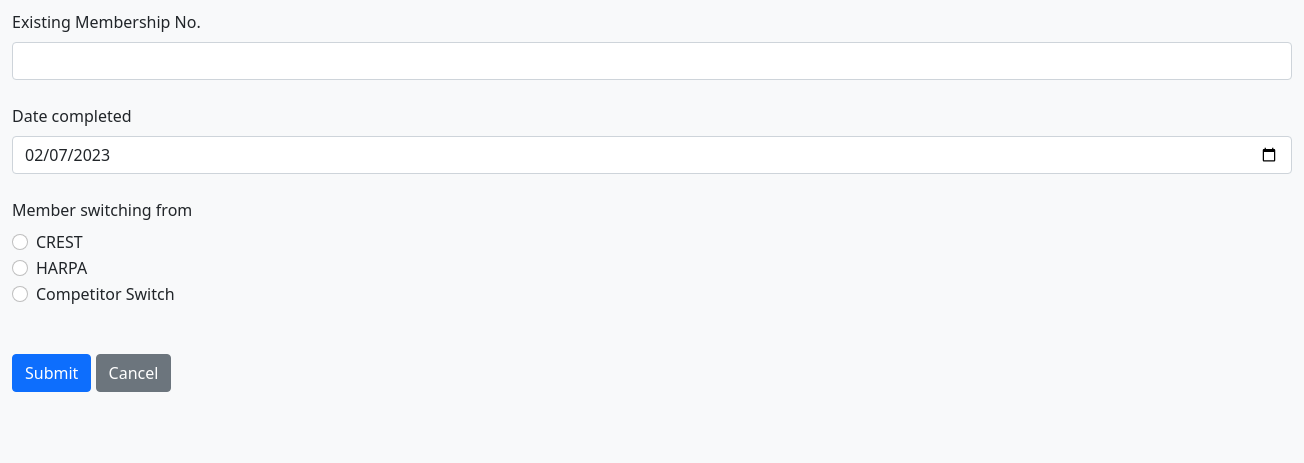
Test: Submit and cancel functions › shows errors if submitting incomplete form
Expected: the text "Membership Number required" is not shown
Expected: the text "Switch from required" is not shown
Click the button "Submit": [52, 373] box left=12, top=354, right=91, bottom=392
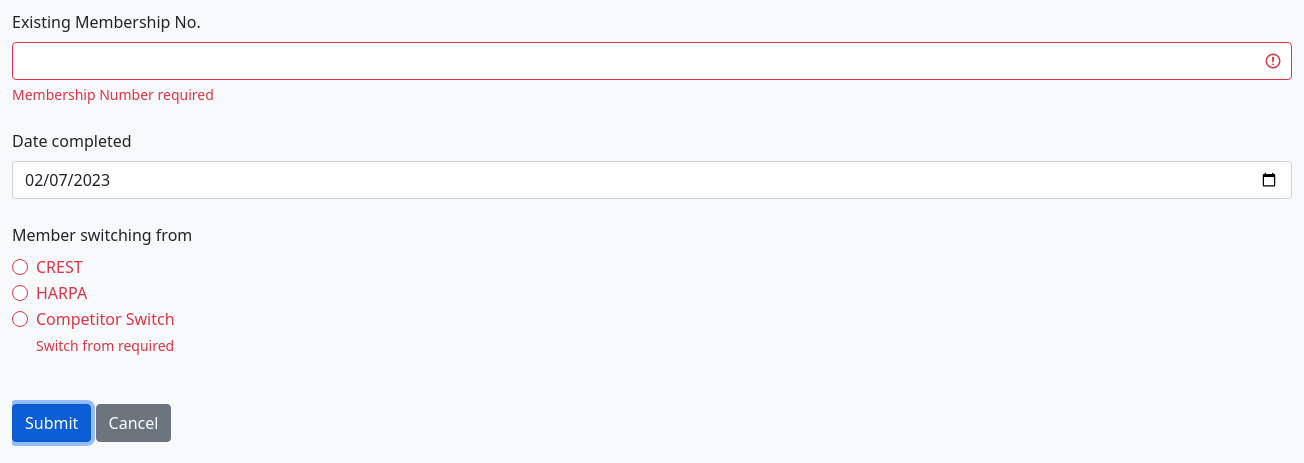
Result: the text "Membership Number required" is shown at left=12, top=85, right=214, bottom=104
Result: the text "Switch from required" is shown at left=36, top=336, right=174, bottom=355
